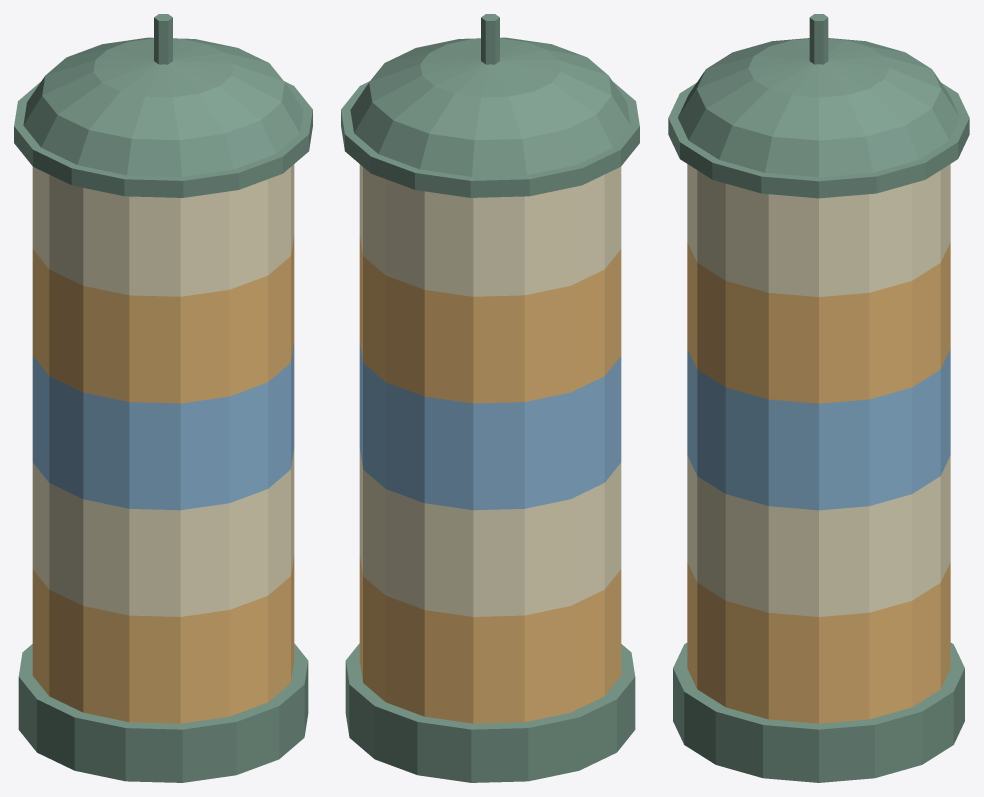
The model's file is ad-column.glb.
The picture shows the model from 3 angles, left to right: view 1: azimuth 30°, elevation 25°; view 2: azimuth 150°, elevation 25°; view 3: azimuth 270°, elevation 25°; orthographic projection.
Visible parts, largest first — view 1: ad-column; view 2: ad-column; view 3: ad-column.
Part boxes in pixels (x1,y1,x2,y2): ad-column: (14,14,312,782); ad-column: (341,14,639,782); ad-column: (668,14,969,782).
Size of the model in its own units: 1.28 by 3.3 by 1.28.
